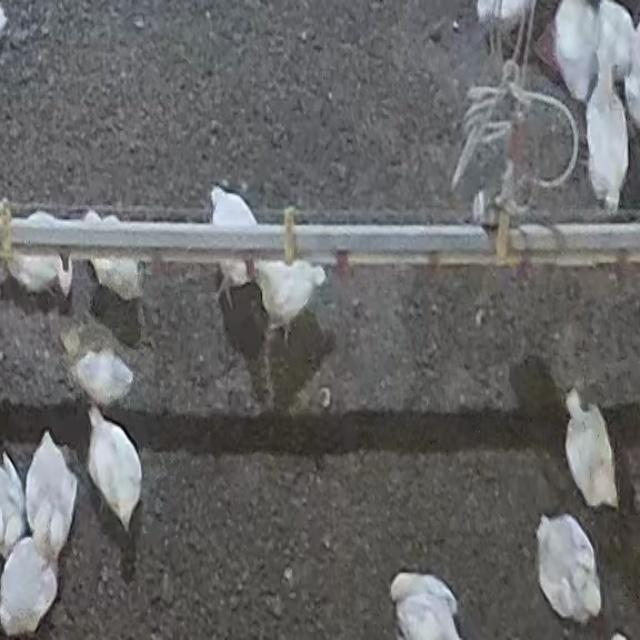chicken: (578, 52, 631, 211), (84, 402, 143, 536), (536, 517, 603, 626), (562, 387, 616, 508), (251, 244, 323, 332), (204, 185, 257, 301), (28, 431, 77, 553), (82, 208, 143, 304), (1, 534, 59, 634), (4, 210, 68, 298), (391, 571, 467, 640), (554, 0, 601, 103), (72, 346, 134, 408), (595, 4, 640, 78)
